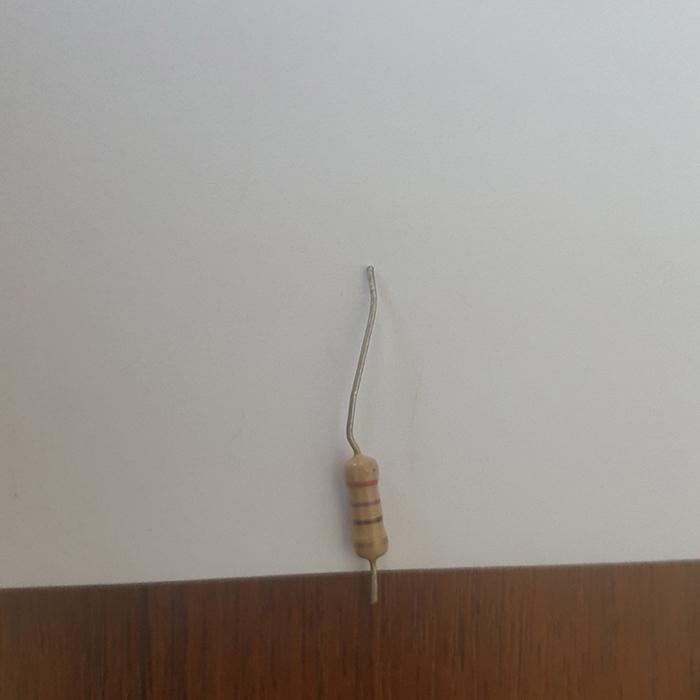resistor: (344, 452, 387, 566)
